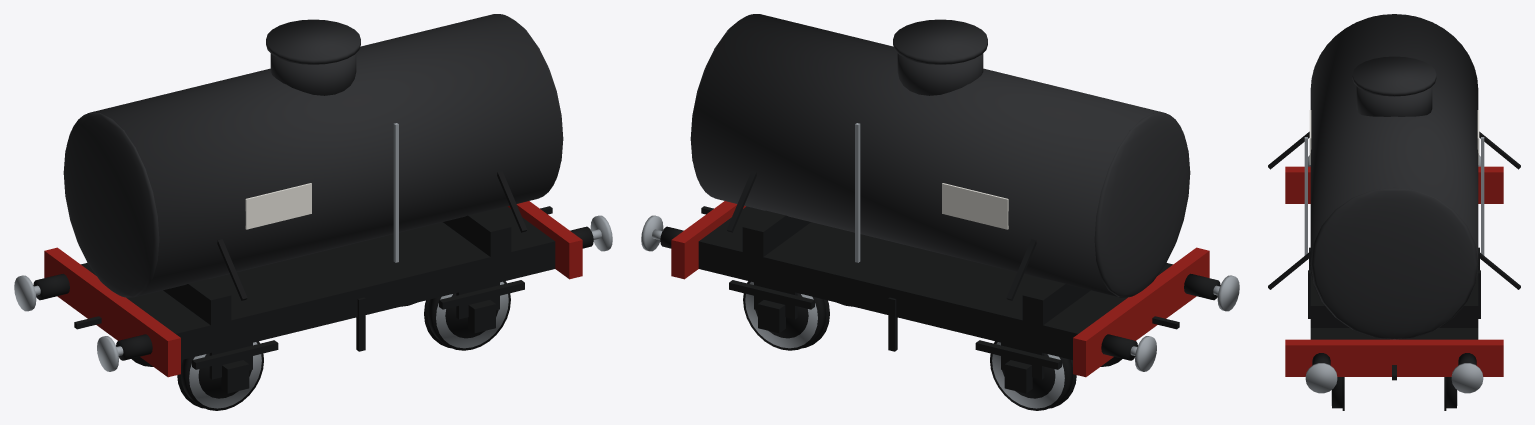
Rendered from oil_tanker.glb.
3 renders of one model, left to right at view 1: azimuth 30°, elevation 25°; view 2: azimuth 150°, elevation 25°; view 3: azimuth 270°, elevation 25°, orthographic. The views are drawn at different scales.
Parts seen in each view (by area): view 1: tanque, estrado, tampo.001, longarina.001, viga.001, domo_tampa, domo, placa2, viga, apoio.001, apoio, roda_face-1.001 (+15 smaller); view 2: tanque, estrado, tampo.001, longarina, viga.001, domo_tampa, domo, placa, viga, apoio, apoio.001, roda_face1.001 (+15 smaller); view 3: tanque, tampo, viga, domo_tampa, domo, viga.001, estrado, apoio.001, buffer_cabeca, buffer_cabeca.001, escada, escada.001 (+6 smaller).
Part boxes in pixels (left/top/right/bottom): tanque: left=66, top=14, right=562, bottom=297; estrado: left=82, top=206, right=554, bottom=339; tampo.001: left=63, top=113, right=159, bottom=297; longarina.001: left=171, top=238, right=555, bottom=359; viga.001: left=44, top=247, right=180, bottom=377; domo_tampa: left=266, top=19, right=360, bottom=64; domo: left=270, top=53, right=356, bottom=95; placa2: left=245, top=183, right=311, bottom=229; viga: left=508, top=201, right=582, bottom=279; apoio.001: left=443, top=210, right=511, bottom=256; apoio: left=163, top=279, right=231, bottom=325; roda_face-1.001: left=189, top=342, right=261, bottom=408; tanque: left=691, top=14, right=1187, bottom=297; estrado: left=698, top=206, right=1171, bottom=339; tampo.001: left=1094, top=113, right=1190, bottom=297; longarina: left=698, top=238, right=1082, bottom=359; viga.001: left=1073, top=247, right=1209, bottom=377; domo_tampa: left=893, top=19, right=987, bottom=64; domo: left=897, top=53, right=983, bottom=95; placa: left=942, top=183, right=1008, bottom=229; viga: left=671, top=201, right=745, bottom=279; apoio: left=1022, top=279, right=1090, bottom=325; apoio.001: left=742, top=210, right=810, bottom=257; roda_face1.001: left=992, top=342, right=1064, bottom=408; tanque: left=1310, top=14, right=1478, bottom=339; tampo: left=1310, top=187, right=1478, bottom=339; viga: left=1285, top=339, right=1503, bottom=376; domo_tampa: left=1352, top=56, right=1436, bottom=96; domo: left=1356, top=86, right=1432, bottom=116; viga.001: left=1285, top=166, right=1503, bottom=203; estrado: left=1310, top=267, right=1478, bottom=339; apoio.001: left=1310, top=297, right=1478, bottom=327; buffer_cabeca: left=1451, top=363, right=1483, bottom=393; buffer_cabeca.001: left=1305, top=363, right=1337, bottom=393; escada: left=1481, top=137, right=1484, bottom=255; escada.001: left=1304, top=137, right=1307, bottom=255.
Bounding box in the file's own units: 6.05 × 3.68 × 3.01.
